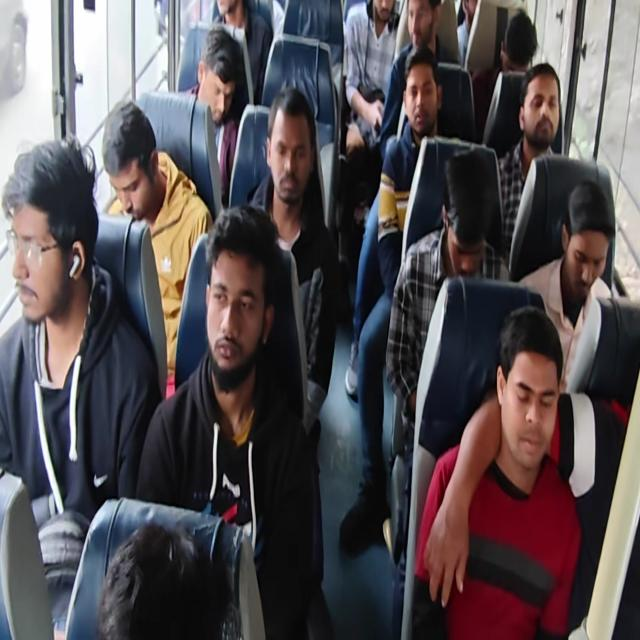person: (93, 525, 232, 640), (0, 150, 85, 334), (490, 311, 570, 478), (203, 228, 267, 388), (101, 98, 162, 227), (442, 162, 492, 290), (564, 185, 612, 303), (265, 100, 311, 212), (202, 40, 238, 134), (524, 72, 566, 149), (403, 59, 439, 134), (502, 12, 538, 87), (402, 0, 440, 59), (364, 0, 398, 35), (457, 0, 486, 36), (212, 0, 238, 24)
